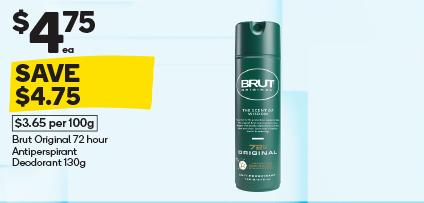description_block: (10, 133, 122, 177)
price_main: (5, 2, 114, 58)
product_image_block: (210, 11, 315, 196)
promo_text_block: (3, 60, 168, 112)
unit_price_block: (2, 113, 111, 134)
